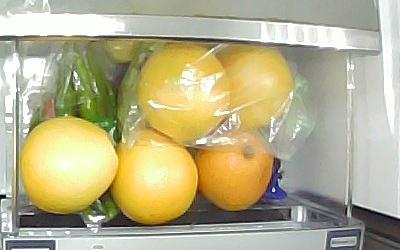grapefruit: (22, 114, 119, 214), (111, 129, 198, 226)
grapefruit_vinyl: (137, 45, 229, 143), (217, 44, 294, 129), (195, 131, 275, 211)
